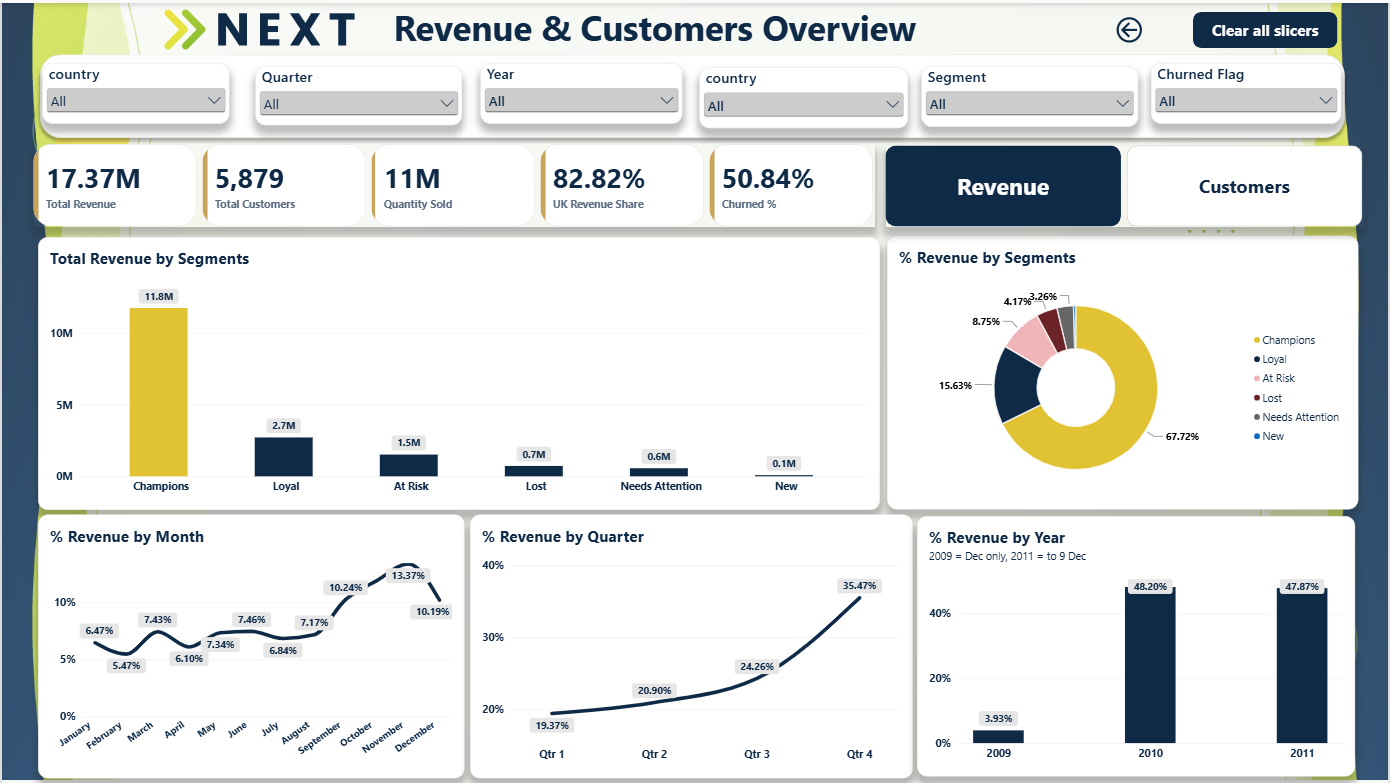

The page's visual inventory and layout, read from the dashboard file:
{"tool":"powerbi","page":{"name":"Business Overview","canvas":[1920,1080],"ordinal":1},"visuals":[{"type":"cardVisual","fields":{"Data":["Table.Total Revenue","Table.Total CXS","Table.Total Quantity Sold","Table.UK Price %","Table.Churned %"]},"box":[43.7,195.3,1165,114.9],"z":0},{"type":"columnChart","title":"Total Customers by Segments","fields":{"Category":["public customer_segments.customer_segment"],"Y":["Table.Total CXS"]},"box":[44.4,321,1183.4,376.9],"z":0,"group":"g1"},{"type":"group","id":"g1","title":"Group 1","box":[44.4,321,1840.6,744.6],"z":1000},{"type":"columnChart","title":"Customers % by Segments","fields":{"Category":["public customer_segments.customer_segment"],"Series":["public customer_segments.churn_flag"],"Y":["Table.Total CXS"]},"box":[1240,321,644.2,375.5],"z":1000,"group":"g1"},{"type":"lineChart","title":"Customers % by Month","fields":{"Category":["public nextdata_analysis.invoicedate.Variation.Date Hierarchy.Month"],"Y":["Table.Total CXS"]},"box":[44.4,704.7,602,360.8],"z":2000,"group":"g1"},{"type":"bookmarkNavigator","box":[1222.5,197.6,661.8,112.6],"z":3000},{"type":"lineChart","title":"Customers % by Quarter","fields":{"Category":["public nextdata_analysis.invoicedate.Variation.Date Hierarchy.Quarter"],"Y":["Table.Total CXS"]},"box":[657.1,704.8,602,360.8],"z":3000,"group":"g1"},{"type":"shape","box":[43.7,62,1824.5,133.3],"z":4000},{"type":"columnChart","title":"Customers % by Year","fields":{"Category":["public nextdata_analysis.invoicedate.Variation.Date Hierarchy.Year"],"Y":["Table.Total CXS"]},"box":[1271.5,704.7,613.5,358.5],"z":4000,"group":"g1"},{"type":"slicer","fields":{"Values":["public nextdata_analysis.country"]},"box":[55.6,84.1,258.9,84],"z":5000},{"type":"slicer","fields":{"Values":["public nextdata_analysis.invoicedate.Variation.Date Hierarchy.Quarter"]},"box":[350.9,86.4,286.2,81.8],"z":6000},{"type":"slicer","fields":{"Values":["public nextdata_analysis.invoicedate.Variation.Date Hierarchy.Year"]},"box":[662,84.1,279.4,84],"z":7000},{"type":"slicer","fields":{"Values":["public customer_segments.customer_segment"]},"box":[1273,86.4,299.8,84],"z":8000},{"type":"slicer","fields":{"Values":["public customer_segments.churn_flag"]},"box":[1591,84.1,263.5,84],"z":9000},{"type":"slicer","fields":{"Values":["public customer_segments.country"]},"box":[966.4,88.6,288.5,84],"z":10000},{"type":"group","id":"g2","title":"Group 3","box":[195.3,0,1128.3,96.5],"z":11000},{"type":"actionButton","box":[1649.9,11.5,200,50],"z":12000},{"type":"image","box":[195.3,0,322.7,73.5],"z":13000,"group":"g2"},{"type":"actionButton","box":[1507.4,6.9,105.7,62],"z":13000},{"type":"textbox","box":[542.5,0,781.1,96.5],"z":14000,"group":"g2"}]}

Visuals, with their boxes in screenshot pixels (x1, y1, x2, y2), scaled from the page's 1920x1080 canvas onto the 1390x783 screenshot:
cardVisual - Table.Total Revenue x Table.Total CXS: (32,142,875,225)
"Total Customers by Segments" columnChart: (32,233,889,506)
"Group 1" group: (32,233,1365,773)
"Customers % by Segments" columnChart: (898,233,1364,505)
"Customers % by Month" lineChart: (32,511,468,772)
bookmarkNavigator: (885,143,1364,225)
"Customers % by Quarter" lineChart: (476,511,912,773)
shape: (32,45,1352,142)
"Customers % by Year" columnChart: (921,511,1365,771)
slicer - public nextdata_analysis.country: (40,61,228,122)
slicer - public nextdata_analysis.invoicedate.Variation.Date Hierarchy.Quarter: (254,63,461,122)
slicer - public nextdata_analysis.invoicedate.Variation.Date Hierarchy.Year: (479,61,682,122)
slicer - public customer_segments.customer_segment: (922,63,1139,124)
slicer - public customer_segments.churn_flag: (1152,61,1343,122)
slicer - public customer_segments.country: (700,64,908,125)
"Group 3" group: (141,0,958,70)
actionButton: (1194,8,1339,45)
image: (141,0,375,53)
actionButton: (1091,5,1168,50)
textbox: (393,0,958,70)
